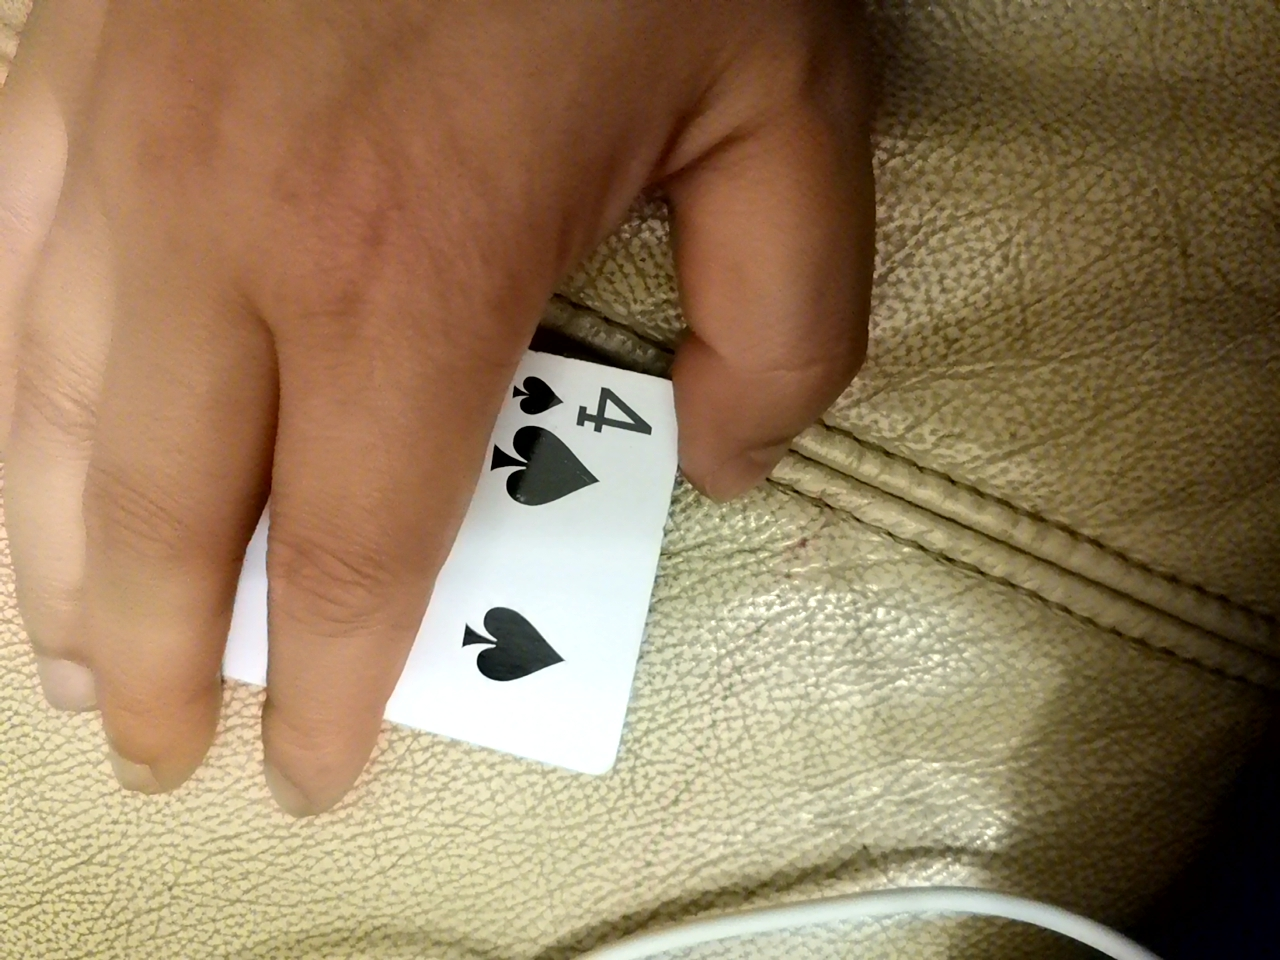ht 4: (372, 328, 667, 771)
